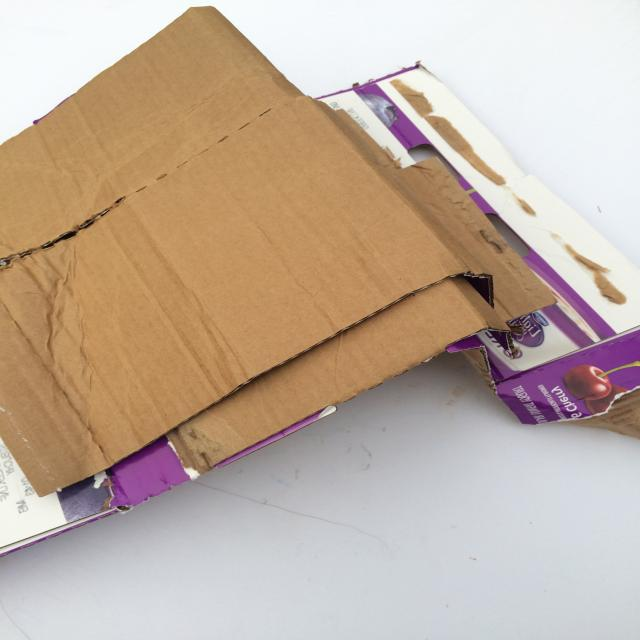cardboard: (2, 6, 557, 502)
